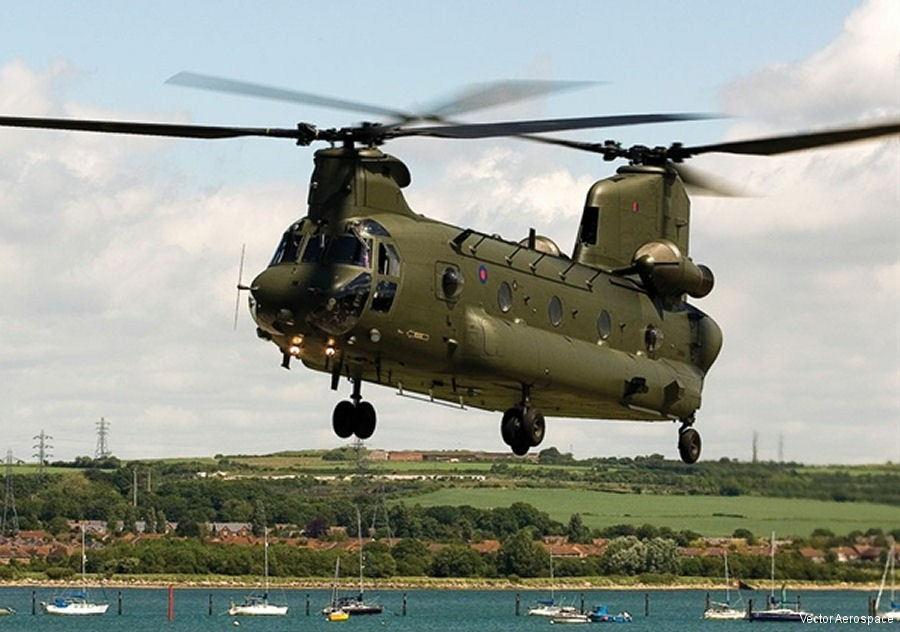chinook: (14, 74, 900, 466)
